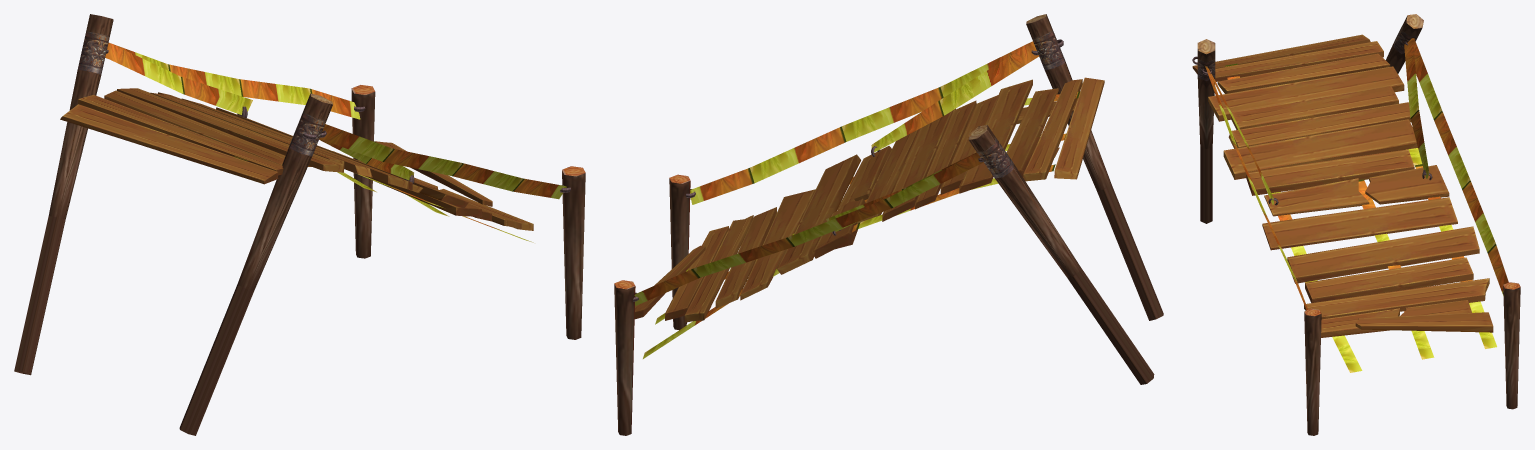
File: qiao_004.FBX
3 renders of one model, left to right at view 1: azimuth 30°, elevation 25°; view 2: azimuth 150°, elevation 25°; view 3: azimuth 270°, elevation 25°, orthographic. The views are drawn at different scales.
Parts seen in each view (by area): view 1: qiao_004, Group002; view 2: qiao_004, Group002; view 3: qiao_004, Group002.
Boxes of the visible parts, x1=… form: qiao_004: x1=14, y1=14, x2=585, y2=435; Group002: x1=105, y1=42, x2=566, y2=242; qiao_004: x1=614, y1=14, x2=1163, y2=435; Group002: x1=634, y1=41, x2=1080, y2=358; qiao_004: x1=1192, y1=14, x2=1520, y2=435; Group002: x1=1205, y1=38, x2=1508, y2=372.
Size of the model in its own units: 1290 by 834 by 904.
2 materials, 2 textured.
